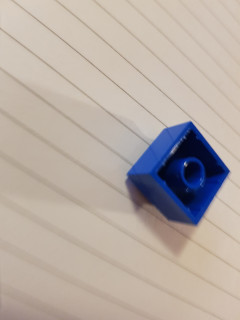2x2 blue: (124, 119, 232, 229)
